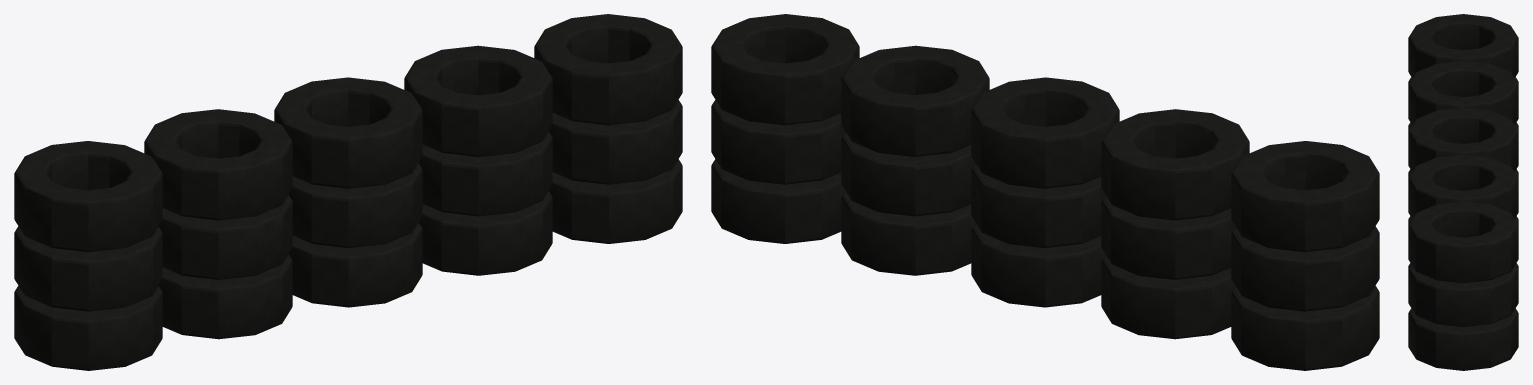
The model's file is tyre-wall-lod.glb.
3 views of the same model, side by side, from view 1: azimuth 30°, elevation 25°; view 2: azimuth 150°, elevation 25°; view 3: azimuth 270°, elevation 25° (orthographic). The views are drawn at different scales.
Parts seen in each view (by area): view 1: tyre-stack-1-layer-3, tyre-stack-2-layer-3, tyre-stack-3-layer-3, tyre-stack-5-layer-3, tyre-stack-4-layer-3, tyre-stack-1-layer-2, tyre-stack-1-layer-1, tyre-stack-2-layer-1, tyre-stack-4-layer-1, tyre-stack-3-layer-1, tyre-stack-3-layer-2, tyre-stack-5-layer-1 (+3 smaller); view 2: tyre-stack-1-layer-3, tyre-stack-2-layer-3, tyre-stack-3-layer-3, tyre-stack-5-layer-3, tyre-stack-4-layer-3, tyre-stack-1-layer-2, tyre-stack-1-layer-1, tyre-stack-2-layer-1, tyre-stack-4-layer-1, tyre-stack-3-layer-1, tyre-stack-3-layer-2, tyre-stack-5-layer-1 (+3 smaller); view 3: tyre-stack-5-layer-3, tyre-stack-3-layer-3, tyre-stack-4-layer-3, tyre-stack-1-layer-3, tyre-stack-2-layer-3, tyre-stack-5-layer-1, tyre-stack-5-layer-2.
Boxes of the visible parts, x1,y1,x2,y2 form: tyre-stack-1-layer-3: [14, 141, 162, 252]; tyre-stack-2-layer-3: [144, 109, 292, 220]; tyre-stack-3-layer-3: [274, 77, 422, 188]; tyre-stack-5-layer-3: [534, 14, 682, 125]; tyre-stack-4-layer-3: [404, 45, 552, 156]; tyre-stack-1-layer-2: [14, 226, 162, 311]; tyre-stack-1-layer-1: [14, 286, 162, 370]; tyre-stack-2-layer-1: [158, 254, 292, 339]; tyre-stack-4-layer-1: [418, 191, 552, 275]; tyre-stack-3-layer-1: [288, 222, 422, 307]; tyre-stack-3-layer-2: [288, 163, 422, 247]; tyre-stack-5-layer-1: [548, 159, 682, 243]; tyre-stack-1-layer-3: [1231, 141, 1379, 252]; tyre-stack-2-layer-3: [1101, 109, 1249, 220]; tyre-stack-3-layer-3: [971, 77, 1119, 188]; tyre-stack-5-layer-3: [711, 14, 859, 125]; tyre-stack-4-layer-3: [841, 45, 989, 156]; tyre-stack-1-layer-2: [1231, 226, 1379, 311]; tyre-stack-1-layer-1: [1231, 286, 1379, 370]; tyre-stack-2-layer-1: [1101, 254, 1235, 339]; tyre-stack-4-layer-1: [841, 191, 975, 275]; tyre-stack-3-layer-1: [971, 222, 1105, 307]; tyre-stack-3-layer-2: [971, 163, 1105, 247]; tyre-stack-5-layer-1: [711, 159, 845, 243]; tyre-stack-5-layer-3: [1408, 201, 1518, 283]; tyre-stack-3-layer-3: [1408, 107, 1518, 171]; tyre-stack-4-layer-3: [1408, 154, 1518, 218]; tyre-stack-1-layer-3: [1408, 14, 1518, 77]; tyre-stack-2-layer-3: [1408, 61, 1518, 124]; tyre-stack-5-layer-1: [1408, 308, 1518, 370]; tyre-stack-5-layer-2: [1408, 264, 1518, 326].
Size of the model in its own units: 4 by 1 by 0.7999.
1 material, 1 textured.
